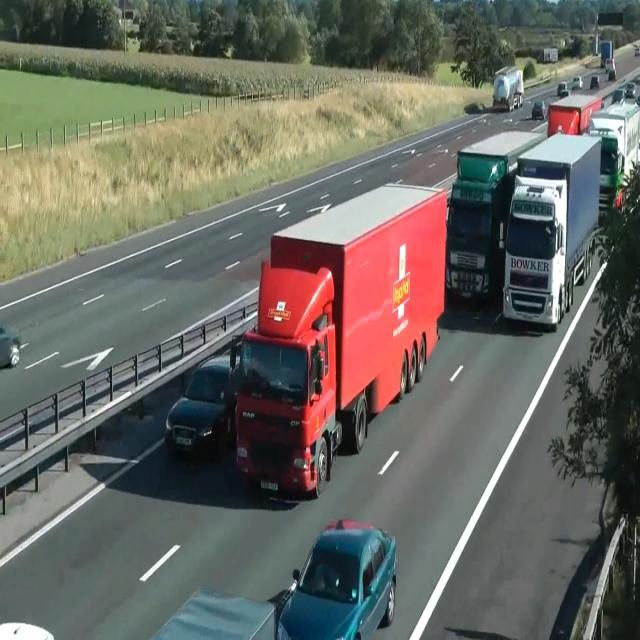bus: (276, 517, 397, 639), (164, 358, 237, 461), (0, 620, 54, 639), (0, 324, 21, 368), (531, 100, 545, 120), (611, 88, 625, 103), (624, 82, 636, 98), (557, 82, 569, 97), (572, 75, 583, 89), (590, 75, 599, 89)
car: (446, 78, 638, 331), (150, 516, 398, 638)
minibus: (228, 181, 448, 499), (501, 130, 602, 330), (445, 129, 545, 305), (588, 99, 640, 215), (547, 92, 603, 138), (492, 65, 524, 111), (600, 40, 613, 68), (536, 47, 558, 63), (605, 58, 617, 81), (633, 38, 639, 56)
